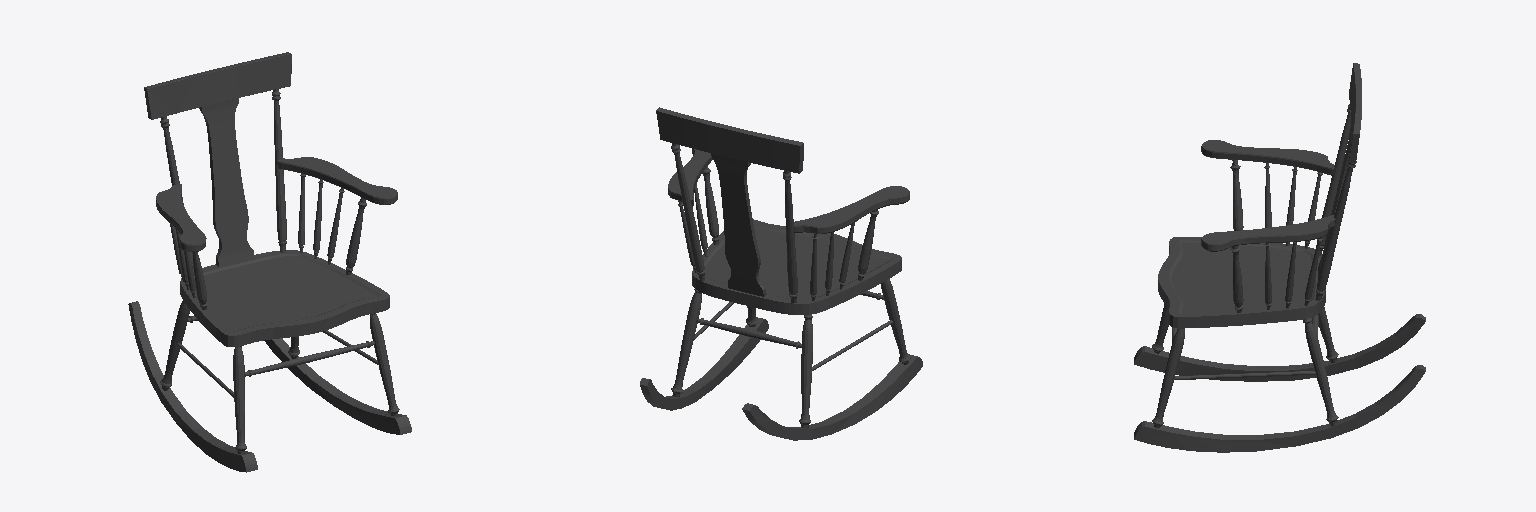
File: Rockingchair_01.obj
3 views of the same model, side by side, from view 1: azimuth 30°, elevation 25°; view 2: azimuth 150°, elevation 25°; view 3: azimuth 270°, elevation 25° (orthographic).
Visible parts, largest first — view 1: RockingChair_01mesh_Mesh.001; view 2: RockingChair_01mesh_Mesh.001; view 3: RockingChair_01mesh_Mesh.001.
Boxes of the visible parts, x1,y1,x2,y2 form: RockingChair_01mesh_Mesh.001: [128, 52, 411, 472]; RockingChair_01mesh_Mesh.001: [640, 107, 922, 440]; RockingChair_01mesh_Mesh.001: [1134, 63, 1425, 452].
Bounding box in the file's own units: 0.7081 × 0.9949 × 0.8335.